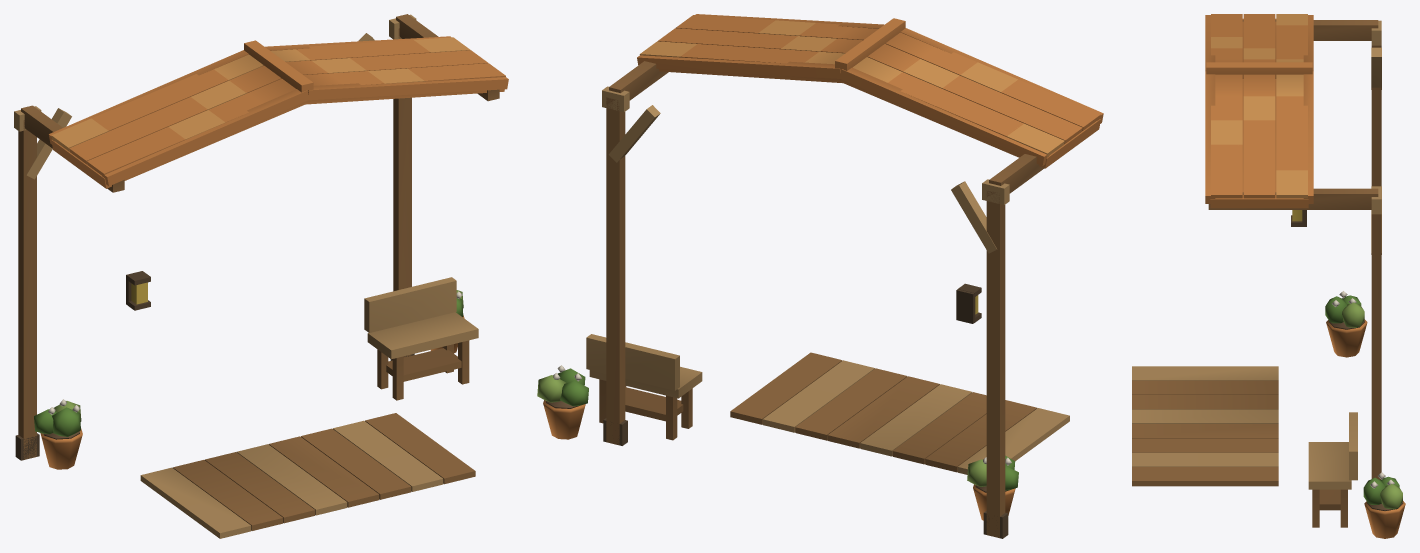
Rendered from porch_a.glb.
3 views of the same model, side by side, from view 1: azimuth 30°, elevation 25°; view 2: azimuth 150°, elevation 25°; view 3: azimuth 270°, elevation 25° (orthographic). The views are drawn at different scales.
Visible parts, largest first — view 1: porch_a; view 2: porch_a; view 3: porch_a.
Boxes of the visible parts, left/top/right/bottom form: porch_a: left=14, top=14, right=508, bottom=538; porch_a: left=537, top=14, right=1103, bottom=538; porch_a: left=1132, top=14, right=1405, bottom=538.
Size of the model in its own units: 2.92 by 2.41 by 1.65.
